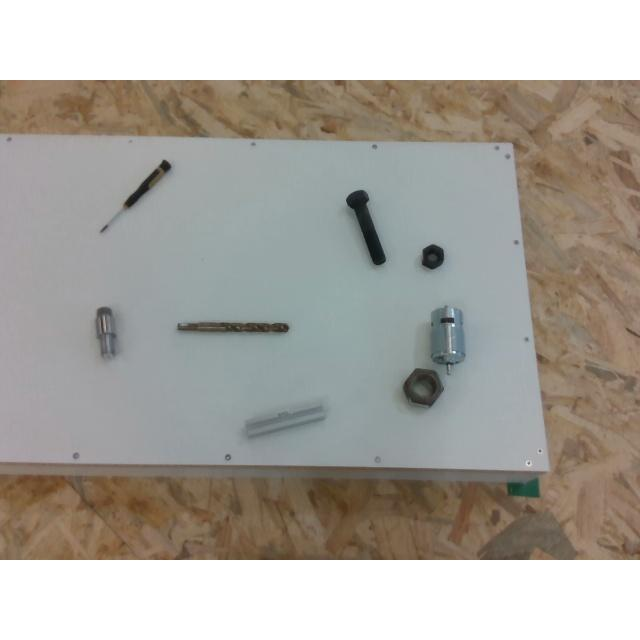Axis2: (95, 306, 114, 356)
Drill: (176, 321, 288, 332)
F20_20_G: (243, 404, 324, 436)
M20: (422, 244, 444, 268)
M20_100: (346, 190, 386, 264)
M30: (402, 368, 446, 408)
Motor2: (430, 306, 464, 374)
